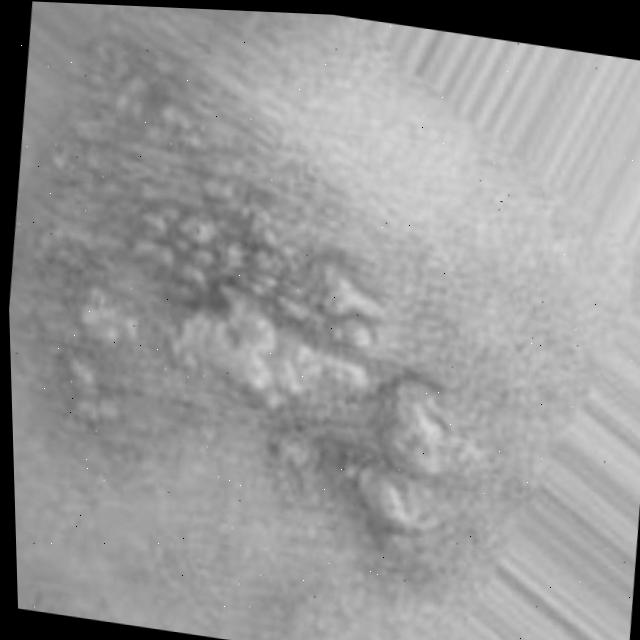Shingles: (1, 46, 508, 555)
